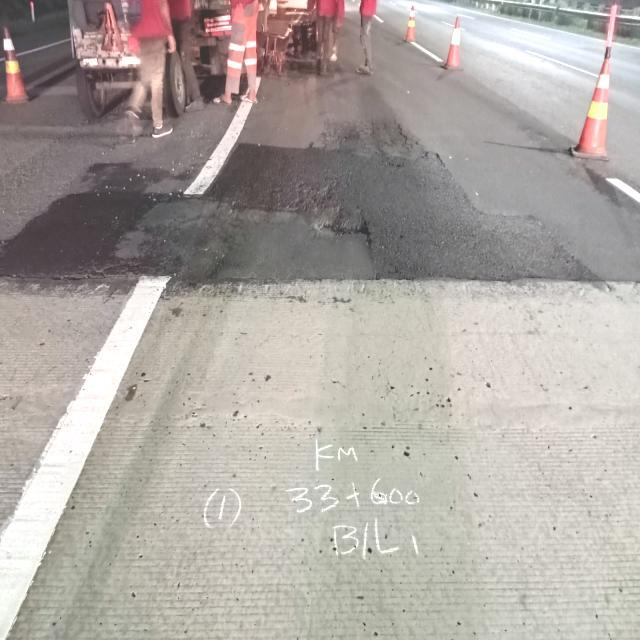Buraco: (309, 204, 379, 261)
